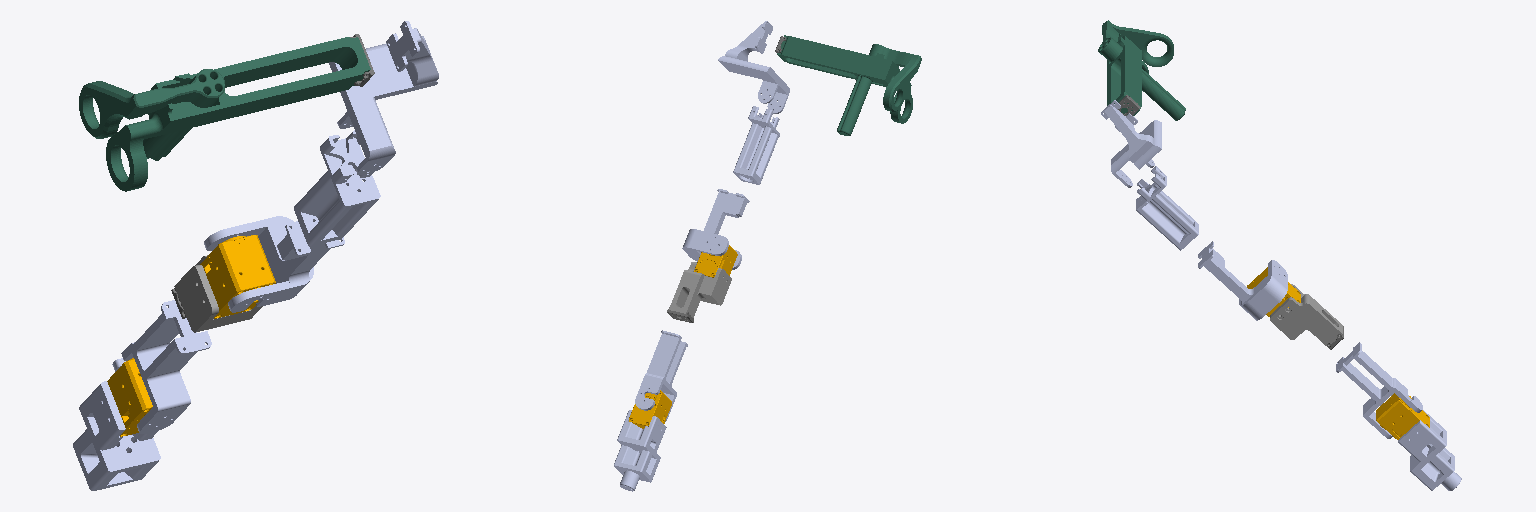
The robot description file, URDF, robot "flexiv_teleop_left_updated":
<?xml version='1.0' encoding='utf-8'?>
<robot name="flexiv_teleop_left_updated">
    <link name="world" />
    <joint name="world_to_base_link_mount_pos45_x" type="fixed">
        <parent link="world" />
        <child link="base_link" />
        <origin xyz="0 0 0" rpy="0.785398163397448 0 0" />
    </joint>
    <link name="base_link">
        <inertial>
            <origin xyz="0.00162714534466 -0.000337390276237 -0.0191118243833" rpy="0 0 0" />
            <mass value="0.111" />
            <inertia ixx="0.000105710240322" ixy="2.93441015085e-07" ixz="-1.65189130445e-06" iyy="0.000105177728548" iyz="-1.7923343843e-07" izz="4.23598759172e-05" />
        </inertial>
        <visual>
            <origin xyz="0.0475059038513 -0.372538988375 -0.0693435954866" rpy="3.67319520414e-06 9.44309301516e-06 -3.14158530714" />
            <geometry>
                <mesh filename="meshes/base_link.stl" scale="1 1 1" />
            </geometry>
            <material name="0.647059_0.647059_0.647059_0.000000_0.000000">
                <color rgba="0.647059 0.647059 0.647059 1" />
            </material>
        </visual>
        <collision>
            <origin xyz="0.0475059038513 -0.372538988375 -0.0693435954866" rpy="3.67319520414e-06 9.44309301516e-06 -3.14158530714" />
            <geometry>
                <mesh filename="meshes/base_link.stl" scale="1 1 1" />
            </geometry>
        </collision>
        <visual>
            <origin xyz="0 -1.28562178611e-08 -0.00349999999998" rpy="1.34924357313e-11 3.67320510333e-06 1.5708" />
            <geometry>
                <mesh filename="meshes/BTS2_M2_6X8_1.stl" scale="1 1 1" />
            </geometry>
            <material name="0.768627_0.886275_0.952941_0.000000_0.000000">
                <color rgba="0.768627 0.886275 0.952941 1" />
            </material>
        </visual>
        <collision>
            <origin xyz="0 -1.28562178611e-08 -0.00349999999998" rpy="1.34924357313e-11 3.67320510333e-06 1.5708" />
            <geometry>
                <mesh filename="meshes/BTS2_M2_6X8_1.stl" scale="1 1 1" />
            </geometry>
        </collision>
    </link>
    <link name="link_1">
        <inertial>
            <origin xyz="0.000128700600234 0.0137649642433 0.0809051626206" rpy="0 0 0" />
            <mass value="0.115" />
            <inertia ixx="8.88499239897e-05" ixy="-7.59174394204e-09" ixz="-2.35583400109e-08" iyy="8.69121656279e-05" iyz="-9.29367699924e-06" izz="2.40979853064e-05" />
        </inertial>
        <visual>
            <origin xyz="0 0 0" rpy="1.57079632679 0 0" />
            <geometry>
                <mesh filename="meshes/factr_teleop_franka_l1.stl" scale="1 1 1" />
            </geometry>
            <material name="0.792157_0.819608_0.933333_0.000000_0.000000">
                <color rgba="0.792157 0.819608 0.933333 1" />
            </material>
        </visual>
        <collision>
            <origin xyz="0 0 0" rpy="1.57079632679 0 0" />
            <geometry>
                <mesh filename="meshes/factr_teleop_franka_l1.stl" scale="1 1 1" />
            </geometry>
        </collision>
        <visual>
            <origin xyz="0.000130574300607 0.0149399256995 0.105023853735" rpy="1.57079367321 -2.65358979336e-06 -3.14159265359" />
            <geometry>
                <mesh filename="meshes/DC12_A01_SPACER_RING_1.stl" scale="1 1 1" />
            </geometry>
            <material name="0.980392_0.713725_0.003922_0.000000_0.000000">
                <color rgba="0.980392 0.713726 0.00392157 1" />
            </material>
        </visual>
        <collision>
            <origin xyz="0.000130574300607 0.0149399256995 0.105023853735" rpy="1.57079367321 -2.65358979336e-06 -3.14159265359" />
            <geometry>
                <mesh filename="meshes/DC12_A01_SPACER_RING_1.stl" scale="1 1 1" />
            </geometry>
        </collision>
    </link>
    <link name="link_2">
        <inertial>
            <origin xyz="0.00793675562415 -0.000109251783809 0.0666223895078" rpy="0 0 0" />
            <mass value="0.04" />
            <inertia ixx="4.83185929342e-05" ixy="2.81678479977e-08" ixz="-5.48734234067e-06" iyy="5.35587477865e-05" iyz="-3.98475379423e-08" izz="8.23422448459e-06" />
        </inertial>
        <visual>
            <origin xyz="0 0 -0.01125" rpy="1.57079632679 0 0" />
            <geometry>
                <mesh filename="meshes/factr_teleop_franka_l2.stl" scale="1 1 1" />
            </geometry>
            <material name="0.792157_0.819608_0.933333_0.000000_0.000000">
                <color rgba="0.792157 0.819608 0.933333 1" />
            </material>
        </visual>
        <collision>
            <origin xyz="0 0 -0.01125" rpy="1.57079632679 0 0" />
            <geometry>
                <mesh filename="meshes/factr_teleop_franka_l2.stl" scale="1 1 1" />
            </geometry>
        </collision>
        <visual>
            <origin xyz="0.0175578801175 -0.000114968372554 0.0989869629671" rpy="1.01961531023e-06 -3.67320510335e-06 -1.5707963268" />
            <geometry>
                <mesh filename="meshes/BTS2_M2_6X8_1.stl" scale="1 1 1" />
            </geometry>
            <material name="0.768627_0.886275_0.952941_0.000000_0.000000">
                <color rgba="0.768627 0.886275 0.952941 1" />
            </material>
        </visual>
        <collision>
            <origin xyz="0.0175578801175 -0.000114968372554 0.0989869629671" rpy="1.01961531023e-06 -3.67320510335e-06 -1.5707963268" />
            <geometry>
                <mesh filename="meshes/BTS2_M2_6X8_1.stl" scale="1 1 1" />
            </geometry>
        </collision>
    </link>
    <link name="link_3">
        <inertial>
            <origin xyz="-0.0139127681942 0.00853073534475 0.0729507412844" rpy="0 0 0" />
            <mass value="0.109" />
            <inertia ixx="7.10135399594e-05" ixy="1.11053625207e-06" ixz="8.20244545875e-06" iyy="7.61801750484e-05" iyz="-6.0800450212e-06" izz="2.12507476384e-05" />
        </inertial>
        <visual>
            <origin xyz="0 0 0.003" rpy="-1.57079632679 0 3.14159265359" />
            <geometry>
                <mesh filename="meshes/DC15_A01_ADAPTOR_1.stl" scale="1 1 1" />
            </geometry>
            <material name="0.498039_0.498039_0.498039_0.000000_0.000000">
                <color rgba="0.498039 0.498039 0.498039 1" />
            </material>
        </visual>
        <collision>
            <origin xyz="0 0 0.003" rpy="-1.57079632679 0 3.14159265359" />
            <geometry>
                <mesh filename="meshes/DC15_A01_ADAPTOR_1.stl" scale="1 1 1" />
            </geometry>
        </collision>
        <visual>
            <origin xyz="-0.00910522390268 0.00971465 0.0336771453903" rpy="1.57079632679 2.65358979336e-06 0" />
            <geometry>
                <mesh filename="meshes/link_3.stl" scale="1 1 1" />
            </geometry>
            <material name="0.647059_0.647059_0.647059_0.000000_0.000000">
                <color rgba="0.647059 0.647059 0.647059 1" />
            </material>
        </visual>
        <collision>
            <origin xyz="-0.00910522390268 0.00971465 0.0336771453903" rpy="1.57079632679 2.65358979336e-06 0" />
            <geometry>
                <mesh filename="meshes/link_3.stl" scale="1 1 1" />
            </geometry>
        </collision>
        <visual>
            <origin xyz="-0.0151381215479 0.0100131220393 0.0919747613994" rpy="1.57079367321 -9.74717957251e-12 -1.5708" />
            <geometry>
                <mesh filename="meshes/DC12_A01_SPACER_RING_1.stl" scale="1 1 1" />
            </geometry>
            <material name="0.980392_0.713725_0.003922_0.000000_0.000000">
                <color rgba="0.980392 0.713726 0.00392157 1" />
            </material>
        </visual>
        <collision>
            <origin xyz="-0.0151381215479 0.0100131220393 0.0919747613994" rpy="1.57079367321 -9.74717957251e-12 -1.5708" />
            <geometry>
                <mesh filename="meshes/DC12_A01_SPACER_RING_1.stl" scale="1 1 1" />
            </geometry>
        </collision>
    </link>
    <link name="link_4">
        <inertial>
            <origin xyz="-0.0454128245752 0.0071259953009 -0.0197177142857" rpy="0 0 0" />
            <mass value="0.056" />
            <inertia ixx="3.41479346031e-05" ixy="7.88080631863e-06" ixz="3.67992730287e-06" iyy="9.87498020868e-05" iyz="4.0273135794e-06" izz="8.14047903308e-05" />
        </inertial>
        <visual>
            <origin xyz="0 0 -0.044" rpy="-1.57079632679 -1.57079265342 3.14159265359" />
            <geometry>
                <mesh filename="meshes/factr_teleop_franka_l4.stl" scale="1 1 1" />
            </geometry>
            <material name="0.792157_0.819608_0.933333_0.000000_0.000000">
                <color rgba="0.792157 0.819608 0.933333 1" />
            </material>
        </visual>
        <collision>
            <origin xyz="0 0 -0.044" rpy="-1.57079632679 -1.57079265342 3.14159265359" />
            <geometry>
                <mesh filename="meshes/factr_teleop_franka_l4.stl" scale="1 1 1" />
            </geometry>
        </collision>
        <visual>
            <origin xyz="-0.0939849293855 0.0120735716276 -0.0093792" rpy="1.57079632679 0 -1.5708" />
            <geometry>
                <mesh filename="meshes/BTS2_M2_6X8_1.stl" scale="1 1 1" />
            </geometry>
            <material name="0.768627_0.886275_0.952941_0.000000_0.000000">
                <color rgba="0.768627 0.886275 0.952941 1" />
            </material>
        </visual>
        <collision>
            <origin xyz="-0.0939849293855 0.0120735716276 -0.0093792" rpy="1.57079632679 0 -1.5708" />
            <geometry>
                <mesh filename="meshes/BTS2_M2_6X8_1.stl" scale="1 1 1" />
            </geometry>
        </collision>
    </link>
    <link name="link_5">
        <inertial>
            <origin xyz="-0.00892100027515 -0.0649143670541 -0.00041500110174" rpy="0 0 0" />
            <mass value="0.042" />
            <inertia ixx="4.02038052197e-05" ixy="-7.74076988776e-06" ixz="-9.52443813495e-08" iyy="6.68054906974e-06" iyz="-3.55627738033e-07" izz="4.31008058781e-05" />
        </inertial>
        <visual>
            <origin xyz="0 -0.006 0" rpy="1.57079632679 0 0" />
            <geometry>
                <mesh filename="meshes/factr_teleop_franka_l5.stl" scale="1 1 1" />
            </geometry>
            <material name="0.792157_0.819608_0.933333_0.000000_0.000000">
                <color rgba="0.792157 0.819608 0.933333 1" />
            </material>
        </visual>
        <collision>
            <origin xyz="0 -0.006 0" rpy="1.57079632679 0 0" />
            <geometry>
                <mesh filename="meshes/factr_teleop_franka_l5.stl" scale="1 1 1" />
            </geometry>
        </collision>
        <visual>
            <origin xyz="-0.00721123673848 -0.0949280128561 -0.000667242855968" rpy="3.67338645272e-06 -1.57079265348 3.14159265341" />
            <geometry>
                <mesh filename="meshes/BTS2_M2_6X8_1.stl" scale="1 1 1" />
            </geometry>
            <material name="0.768627_0.886275_0.952941_0.000000_0.000000">
                <color rgba="0.768627 0.886275 0.952941 1" />
            </material>
        </visual>
        <collision>
            <origin xyz="-0.00721123673848 -0.0949280128561 -0.000667242855968" rpy="3.67338645272e-06 -1.57079265348 3.14159265341" />
            <geometry>
                <mesh filename="meshes/BTS2_M2_6X8_1.stl" scale="1 1 1" />
            </geometry>
        </collision>
    </link>
    <link name="link_6">
        <inertial>
            <origin xyz="-0.0445141776772 -0.0327477626772 -0.013926737732" rpy="0 0 0" />
            <mass value="0.046" />
            <inertia ixx="2.05790641204e-05" ixy="-5.43723089179e-06" ixz="3.85437066825e-06" iyy="3.40402733653e-05" iyz="-2.44488303018e-06" izz="3.03376134652e-05" />
        </inertial>
        <visual>
            <origin xyz="-0.059 0 0" rpy="1.57079632679 0 0" />
            <geometry>
                <mesh filename="meshes/factr_teleop_franka_l6.stl" scale="1 1 1" />
            </geometry>
            <material name="0.792157_0.819608_0.933333_0.000000_0.000000">
                <color rgba="0.792157 0.819608 0.933333 1" />
            </material>
        </visual>
        <collision>
            <origin xyz="-0.059 0 0" rpy="1.57079632679 0 0" />
            <geometry>
                <mesh filename="meshes/factr_teleop_franka_l6.stl" scale="1 1 1" />
            </geometry>
        </collision>
        <visual>
            <origin xyz="-0.0546971283726 -0.0367701283726 0.00106109816313" rpy="-3.67320510338e-06 -3.67320510333e-06 -1.57079632678" />
            <geometry>
                <mesh filename="meshes/BTS2_M2_6X8_1.stl" scale="1 1 1" />
            </geometry>
            <material name="0.768627_0.886275_0.952941_0.000000_0.000000">
                <color rgba="0.768627 0.886275 0.952941 1" />
            </material>
        </visual>
        <collision>
            <origin xyz="-0.0546971283726 -0.0367701283726 0.00106109816313" rpy="-3.67320510338e-06 -3.67320510333e-06 -1.57079632678" />
            <geometry>
                <mesh filename="meshes/BTS2_M2_6X8_1.stl" scale="1 1 1" />
            </geometry>
        </collision>
    </link>
    <link name="link_7">
        <inertial>
            <origin xyz="-0.000330677189862 0.0066478775447 -0.111341452259" rpy="0 0 0" />
            <mass value="0.081" />
            <inertia ixx="0.000213072964407" ixy="1.24031159318e-07" ixz="-1.78119933164e-06" iyy="0.000183819435391" iyz="1.11768702983e-05" izz="4.43942783438e-05" />
        </inertial>
        <visual>
            <origin xyz="0 0 -0.003" rpy="1.57079632679 0 -1.57079632679" />
            <geometry>
                <mesh filename="meshes/DC15_A01_ADAPTOR_1.stl" scale="1 1 1" />
            </geometry>
            <material name="0.498039_0.498039_0.498039_0.000000_0.000000">
                <color rgba="0.498039 0.498039 0.498039 1" />
            </material>
        </visual>
        <collision>
            <origin xyz="0 0 -0.003" rpy="1.57079632679 0 -1.57079632679" />
            <geometry>
                <mesh filename="meshes/DC15_A01_ADAPTOR_1.stl" scale="1 1 1" />
            </geometry>
        </collision>
        <visual>
            <origin xyz="0.04699954893 -0.114800214882 -0.10155" rpy="1.57079632679 0 3.14158898038" />
            <geometry>
                <mesh filename="meshes/handle_right.stl" scale="1 1 1" />
            </geometry>
            <material name="0.266667_0.466667_0.400000_0.000000_0.000000">
                <color rgba="0.266667 0.466667 0.4 1" />
            </material>
        </visual>
        <collision>
            <origin xyz="0.04699954893 -0.114800214882 -0.10155" rpy="1.57079632679 0 3.14158898038" />
            <geometry>
                <mesh filename="meshes/handle_right.stl" scale="1 1 1" />
            </geometry>
        </collision>
        <visual>
            <origin xyz="0.0469959222008 -0.11459981348 -0.101552407719" rpy="1.57078734634 1.36731781174e-05 3.14157694105" />
            <geometry>
                <mesh filename="meshes/gripper_right.stl" scale="1 1 1" />
            </geometry>
            <material name="0.266667_0.466667_0.400000_0.000000_0.000000">
                <color rgba="0.266667 0.466667 0.4 1" />
            </material>
        </visual>
        <collision>
            <origin xyz="0.0469959222008 -0.11459981348 -0.101552407719" rpy="1.57078734634 1.36731781174e-05 3.14157694105" />
            <geometry>
                <mesh filename="meshes/gripper_right.stl" scale="1 1 1" />
            </geometry>
        </collision>
        <visual>
            <origin xyz="-2.14304041957e-06 -0.0089988940557 -0.121702111307" rpy="1.57080265366 -1.10195883241e-05 -1.57125210827e-05" />
            <geometry>
                <mesh filename="meshes/BTS2_M2_6X8_1.stl" scale="1 1 1" />
            </geometry>
            <material name="0.768627_0.886275_0.952941_0.000000_0.000000">
                <color rgba="0.768627 0.886275 0.952941 1" />
            </material>
        </visual>
        <collision>
            <origin xyz="-2.14304041957e-06 -0.0089988940557 -0.121702111307" rpy="1.57080265366 -1.10195883241e-05 -1.57125210827e-05" />
            <geometry>
                <mesh filename="meshes/BTS2_M2_6X8_1.stl" scale="1 1 1" />
            </geometry>
        </collision>
    </link>
    <joint name="joint_1" type="revolute">
        <parent link="base_link" />
        <child link="link_1" />
        <origin xyz="0 0 0" rpy="0 0 0" />
        <axis xyz="0 0 1" />
        <limit lower="-3.14159" upper="3.14159" effort="1" velocity="1" />
    </joint>
    <joint name="joint_2" type="revolute">
        <parent link="link_1" />
        <child link="link_2" />
        <origin xyz="0.000130574300606631 0.0149399256994647 0.105023853734996" rpy="0 0 1.5707963267949" />
        <axis xyz="1 0 0" />
        <limit lower="-3.14159" upper="3.14159" effort="1" velocity="1" />
    </joint>
    <joint name="joint_3" type="revolute">
        <parent link="link_2" />
        <child link="link_3" />
        <origin xyz="0.0175578765488817 -0.000114955516336591 0.102486962967077" rpy="0 0 0" />
        <axis xyz="0 0 1" />
        <limit lower="-3.14159" upper="3.14159" effort="1" velocity="1" />
    </joint>
    <joint name="joint_4" type="revolute">
        <parent link="link_3" />
        <child link="link_4" />
        <origin xyz="-0.0151351676567868 0.00984254203913448 0.0949747" rpy="0 1.5707963267949 1.5707963267949" />
        <axis xyz="0 1 0" />
        <limit lower="-3.14159" upper="3.14159" effort="1" velocity="1" />
    </joint>
    <joint name="joint_5" type="revolute">
        <parent link="link_4" />
        <child link="link_5" />
        <origin xyz="-0.0974849293854855 0.0120735844837713 -0.00937919999999989" rpy="-3.14159265358979 0 1.5707963267949" />
        <axis xyz="0 -1 0" />
        <limit lower="-3.14159" upper="3.14159" effort="1" velocity="1" />
    </joint>
    <joint name="joint_6" type="revolute">
        <parent link="link_5" />
        <child link="link_6" />
        <origin xyz="-0.0154612367383675 -0.0949280431600081 -0.000667273159910339" rpy="-3.14159265358979 0 1.5707963267949" />
        <axis xyz="0 -1 0" />
        <limit lower="-3.14159" upper="3.14159" effort="1" velocity="1" />
    </joint>
    <joint name="joint_7" type="revolute">
        <parent link="link_6" />
        <child link="link_7" />
        <origin xyz="-0.0546971044967246 -0.0367701044967213 0.00756109816304664" rpy="-3.14159265358979 0 1.5707963267949" />
        <axis xyz="0 0 -1" />
        <limit lower="-3.14159" upper="3.14159" effort="1" velocity="1" />
    </joint>
</robot>

--- Facts derived from the render (not from the file) ---
Views: 3 orthographic renders of the robot side by side, from view 1: azimuth 30°, elevation 25°; view 2: azimuth 150°, elevation 25°; view 3: azimuth 270°, elevation 25°.
Model flexiv_teleop_left_updated with 9 links and 8 joints (7 revolute, 1 fixed), rooted at world, posed every joint at zero.
Visible links, largest first — view 1: link_7, link_1, link_6, link_3, link_2, link_5, link_4; view 2: link_7, link_1, link_3, link_6, link_4, link_2, link_5; view 3: link_7, link_1, link_3, link_4, link_5, link_2, link_6.
Link boxes in pixels (x1,y1,x2,y2): link_7: (79,34,374,191); link_1: (73,358,160,490); link_6: (329,21,438,174); link_3: (171,235,275,332); link_2: (112,300,211,433); link_5: (294,130,380,245); link_4: (204,216,344,312); link_7: (775,35,921,135); link_1: (614,390,671,491); link_3: (667,245,737,322); link_6: (718,21,789,113); link_4: (682,189,749,269); link_2: (635,330,687,421); link_5: (733,106,779,184); link_7: (1098,20,1185,120); link_1: (1376,393,1461,490); link_3: (1247,267,1343,349); link_4: (1198,241,1287,320); link_5: (1136,166,1198,250); link_2: (1336,342,1422,438); link_6: (1101,100,1161,187).
Size in the robot's own frame: 0.2402 by 0.3815 by 0.4629 metres.
12 mesh visuals loaded from 12 distinct referenced files (10 binary STL); not drawn: 7 (reference not matched to a file when rendering).
